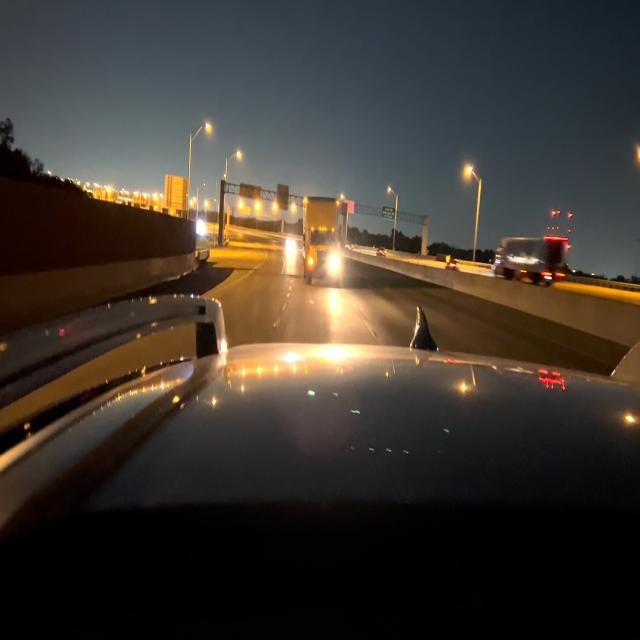back-of-sign: (165, 174, 190, 208)
